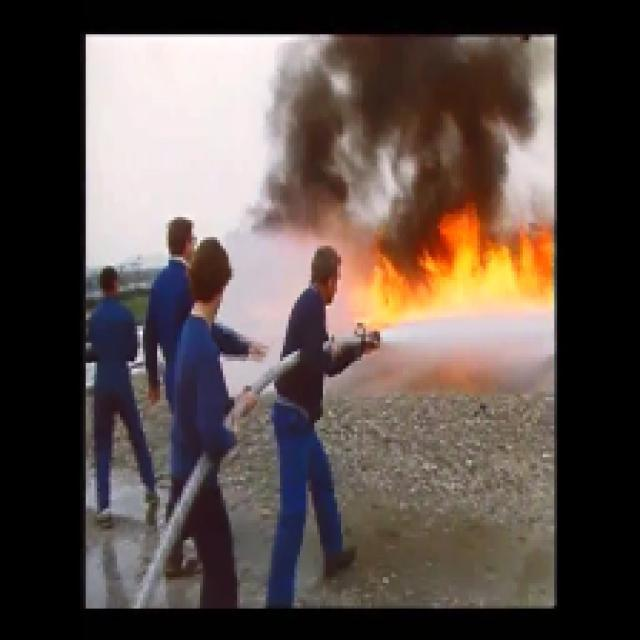Fire: (361, 222, 554, 320)
Smoke: (262, 35, 534, 218)
